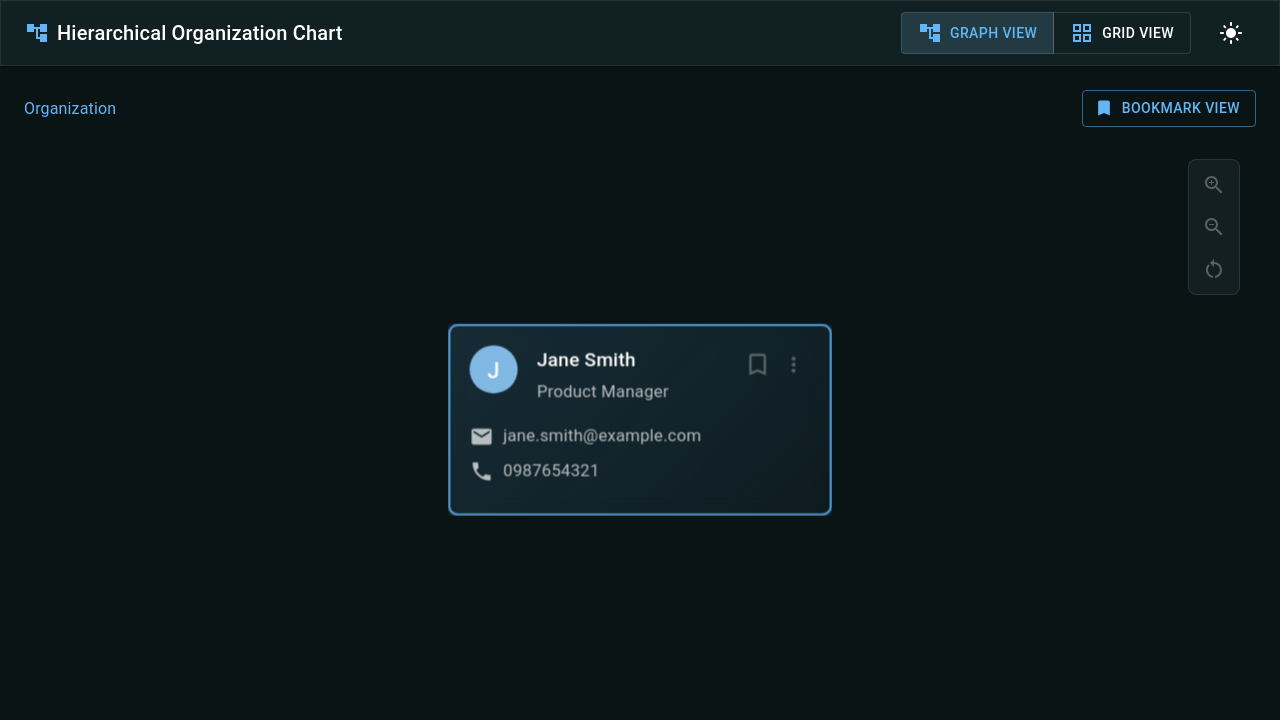
Organization Chart › Data Persistence › persists employee data across page reloads
Step 1. Click the button with test id "grid-view-btn" → (1122, 34), box [1053,12,1191,55]
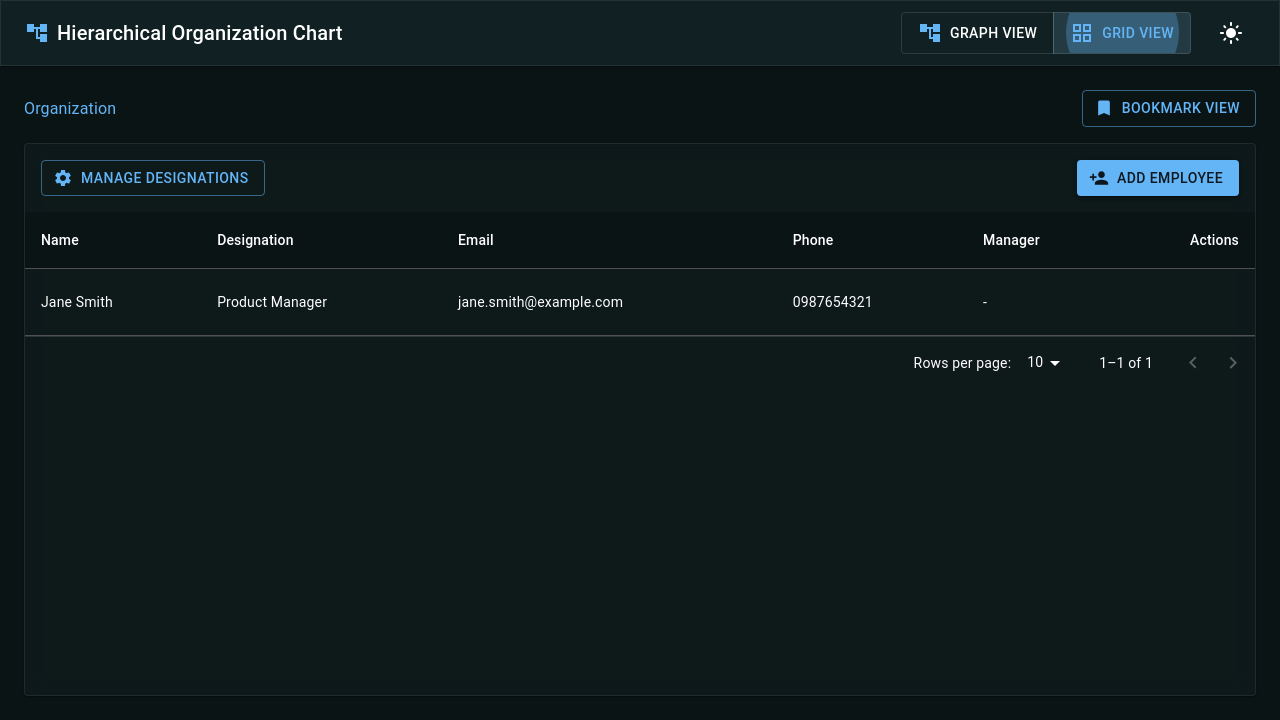
Expected: the text "Jane Smith" is shown, [25,269,201,336]
